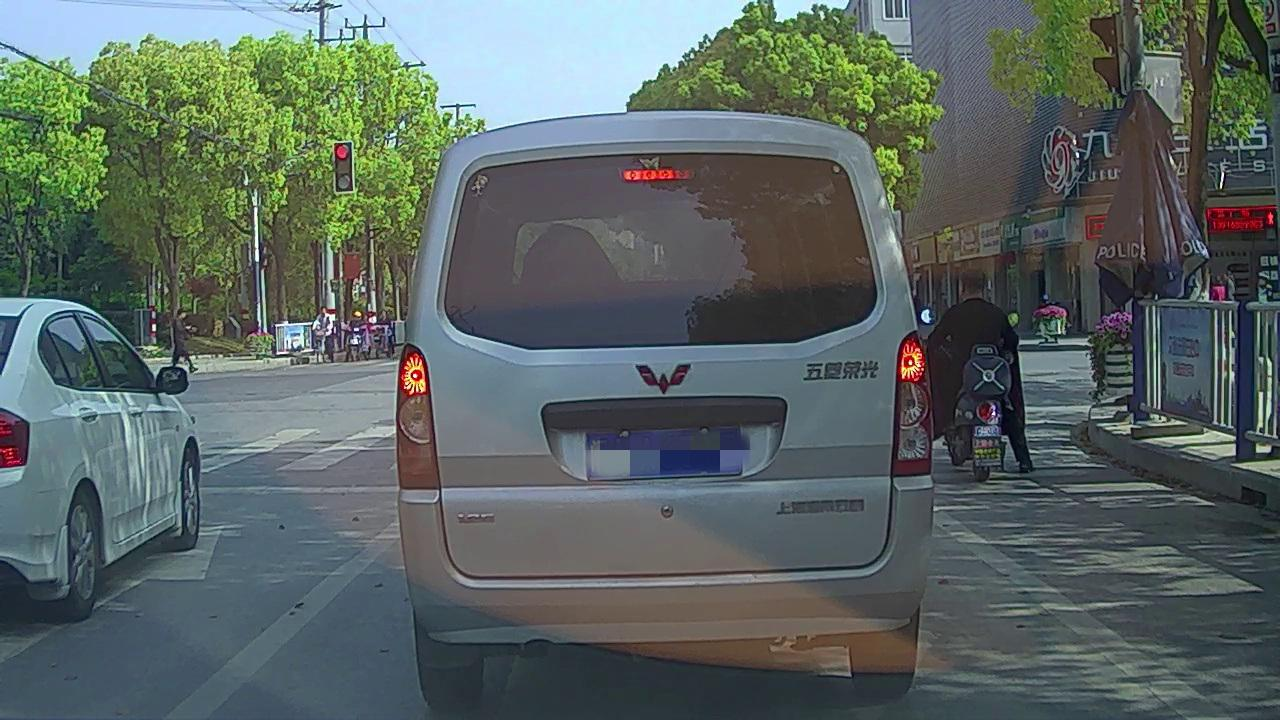traffic_light: (334, 141, 354, 191)
